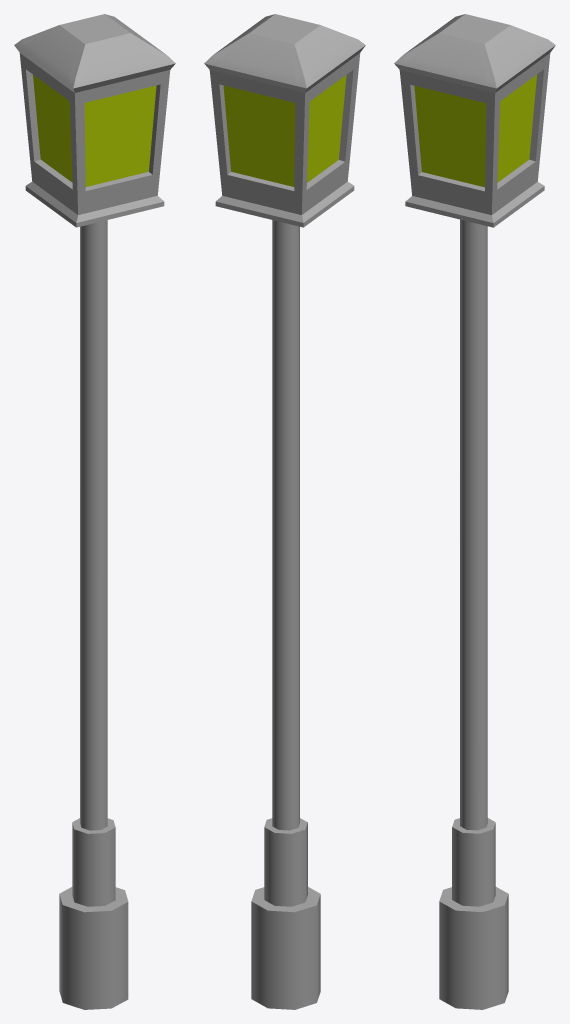
File: Streetlamp.fbx
The picture shows the model from 3 angles, left to right: view 1: azimuth 30°, elevation 25°; view 2: azimuth 150°, elevation 25°; view 3: azimuth 330°, elevation 25°; orthographic projection.
Parts seen in each view (by area): view 1: Streetlamp; view 2: Streetlamp; view 3: Streetlamp.
Part boxes in pixels (box(x1,y1,x2,y2)): Streetlamp: box(14, 14, 175, 1009); Streetlamp: box(204, 14, 365, 1009); Streetlamp: box(394, 14, 555, 1009).
Size of the model in its own units: 0.2899 by 2.61 by 0.2899.
